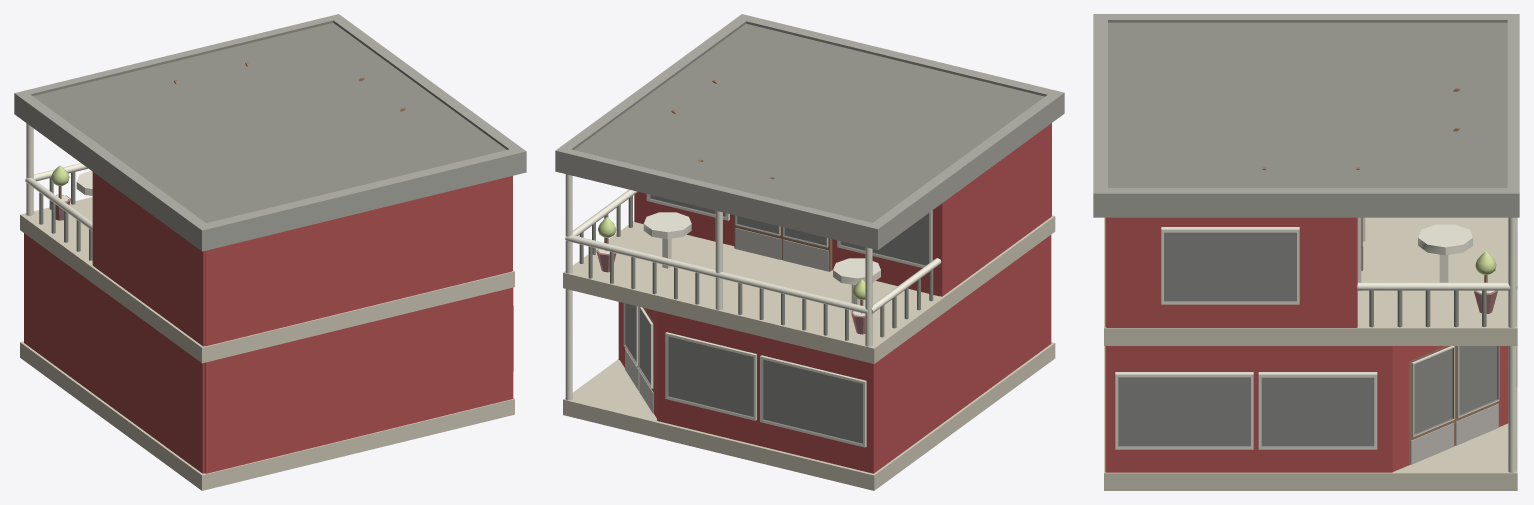
Rendered from house32.fbx.
3 views of the same model, side by side, from view 1: azimuth 30°, elevation 25°; view 2: azimuth 150°, elevation 25°; view 3: azimuth 270°, elevation 25° (orthographic). The views are drawn at different scales.
Visible parts, largest first — view 1: Boole_1; view 2: Boole_1; view 3: Boole_1.
Boxes of the visible parts, left/top/right/bottom form: Boole_1: left=14, top=14, right=526, bottom=490; Boole_1: left=555, top=14, right=1064, bottom=490; Boole_1: left=1093, top=14, right=1519, bottom=490.
Size of the model in its own units: 1147 by 896 by 1150.
